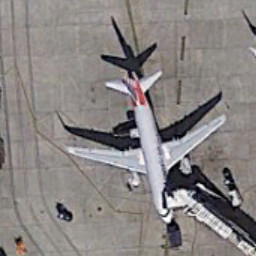Airplane: (63, 64, 232, 228)
